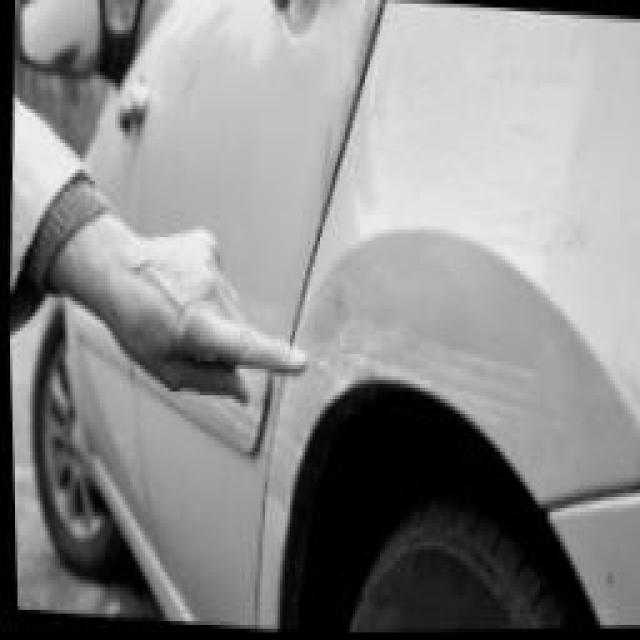Fender: (298, 245, 591, 494)
